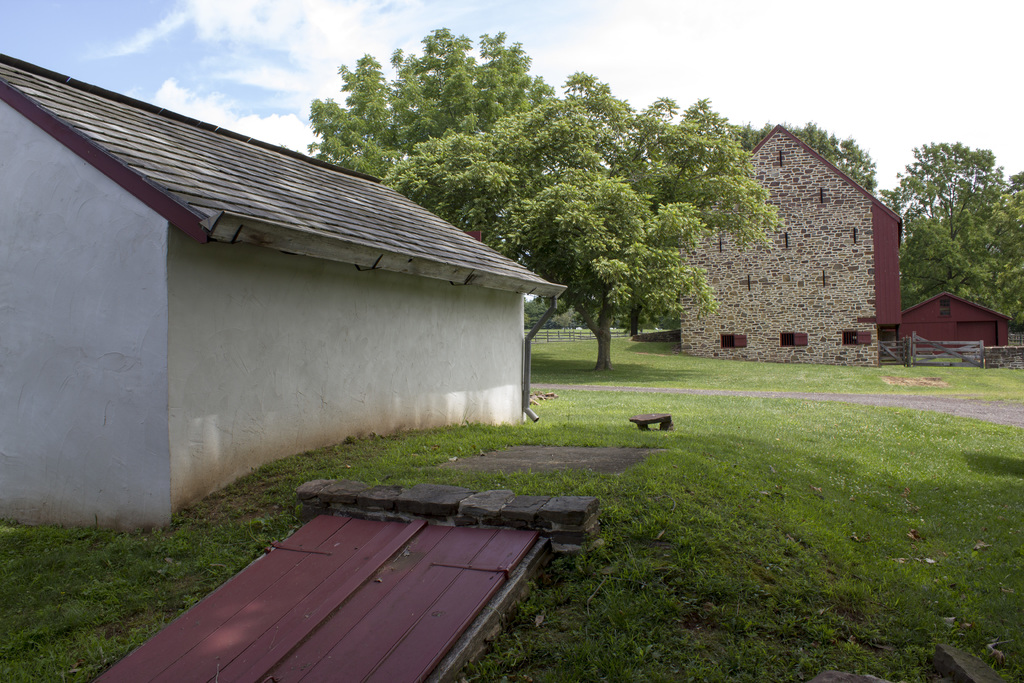Tree: (384, 67, 779, 369), (304, 23, 560, 177), (910, 116, 1011, 321), (779, 124, 879, 195)
